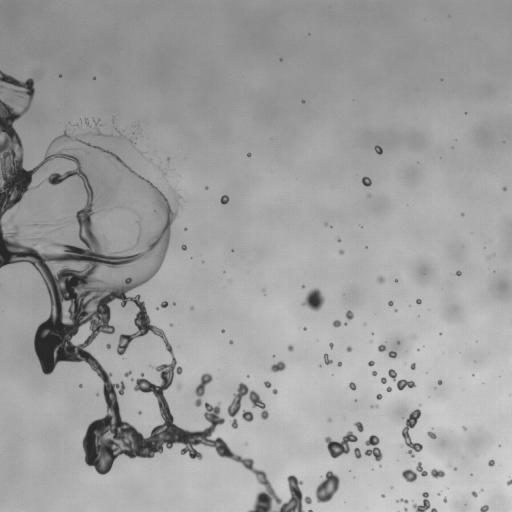droplet: (227, 383, 268, 428), (326, 431, 357, 458), (315, 470, 339, 502), (302, 287, 324, 311), (402, 462, 427, 482), (412, 492, 437, 511), (365, 435, 382, 461), (270, 361, 285, 372), (430, 468, 444, 478), (242, 410, 253, 421), (362, 176, 371, 186), (354, 421, 363, 431), (220, 195, 229, 204), (345, 310, 353, 320), (374, 145, 382, 154), (324, 354, 331, 364), (354, 448, 361, 458), (348, 382, 356, 390), (332, 320, 341, 327), (427, 431, 436, 438), (378, 344, 386, 351), (388, 351, 396, 358), (377, 276, 384, 283), (480, 505, 488, 511), (160, 301, 167, 307), (124, 371, 131, 377), (264, 381, 271, 387), (488, 459, 494, 466), (287, 345, 293, 351), (181, 244, 186, 250), (455, 270, 461, 275), (416, 298, 421, 304), (368, 361, 374, 366), (410, 363, 415, 369), (381, 377, 386, 383), (472, 491, 477, 497), (371, 404, 378, 408), (507, 478, 511, 485), (346, 346, 351, 351), (272, 389, 277, 394), (376, 394, 381, 399), (329, 342, 333, 348), (388, 301, 393, 305), (372, 371, 377, 375), (386, 387, 391, 391), (443, 497, 447, 502), (339, 250, 343, 254), (106, 344, 110, 348), (162, 172, 165, 176), (36, 184, 40, 187), (39, 237, 43, 240), (337, 238, 340, 242), (229, 340, 232, 344), (338, 362, 341, 366), (438, 380, 441, 384), (247, 153, 250, 156), (503, 187, 506, 190), (221, 329, 224, 332), (79, 384, 82, 387), (404, 508, 407, 511), (302, 100, 304, 103), (129, 140, 131, 143), (66, 222, 69, 224), (41, 224, 44, 226), (190, 307, 193, 309), (170, 323, 172, 326), (177, 385, 180, 387), (463, 426, 465, 429), (447, 463, 450, 465), (454, 467, 456, 470), (382, 494, 384, 497), (167, 158, 169, 160), (325, 223, 327, 225), (34, 224, 36, 226), (34, 238, 36, 240), (302, 285, 304, 287), (96, 393, 98, 395), (139, 411, 141, 413), (328, 419, 330, 421)
ligament: (0, 71, 305, 511), (402, 409, 422, 457), (388, 369, 415, 390), (195, 373, 212, 406), (398, 499, 408, 503), (85, 119, 89, 126), (118, 134, 123, 138), (308, 510, 312, 511)
